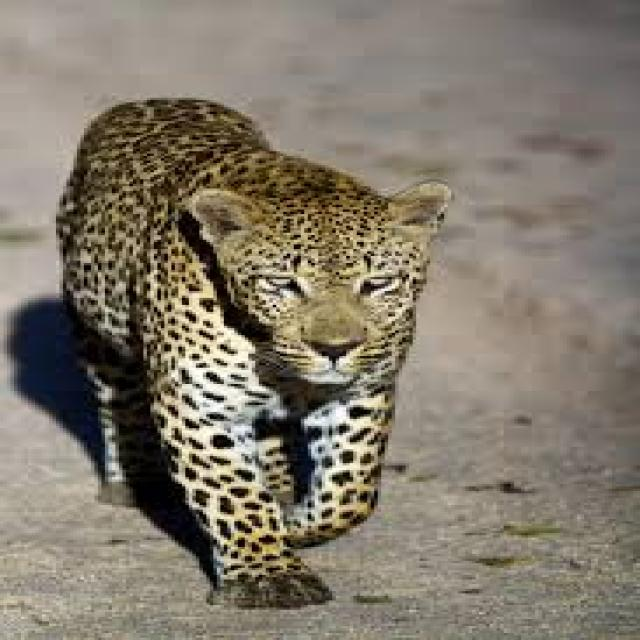Jaguar: (53, 95, 458, 610)
